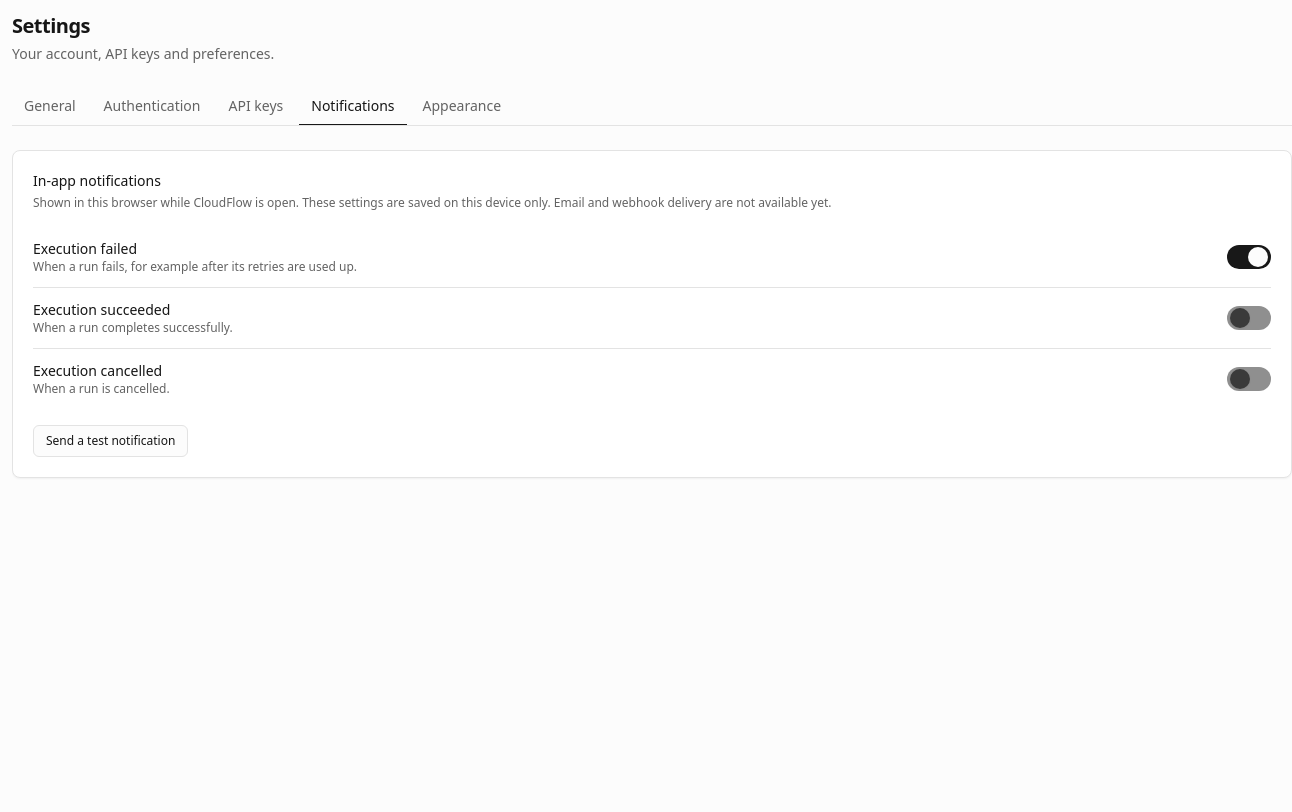
Test: notifications › starts with failures on, saves changes in this browser and can send a test
The width and height of the screenshot is (1292, 812).
Expected: the switch named "Execution failed" in the row of "Execution failed" is checked, [1227,245,1271,269]
Step 1. Click the switch named "Execution succeeded" in the row of "Execution succeeded" → (1249, 318), box [1227,306,1271,330]
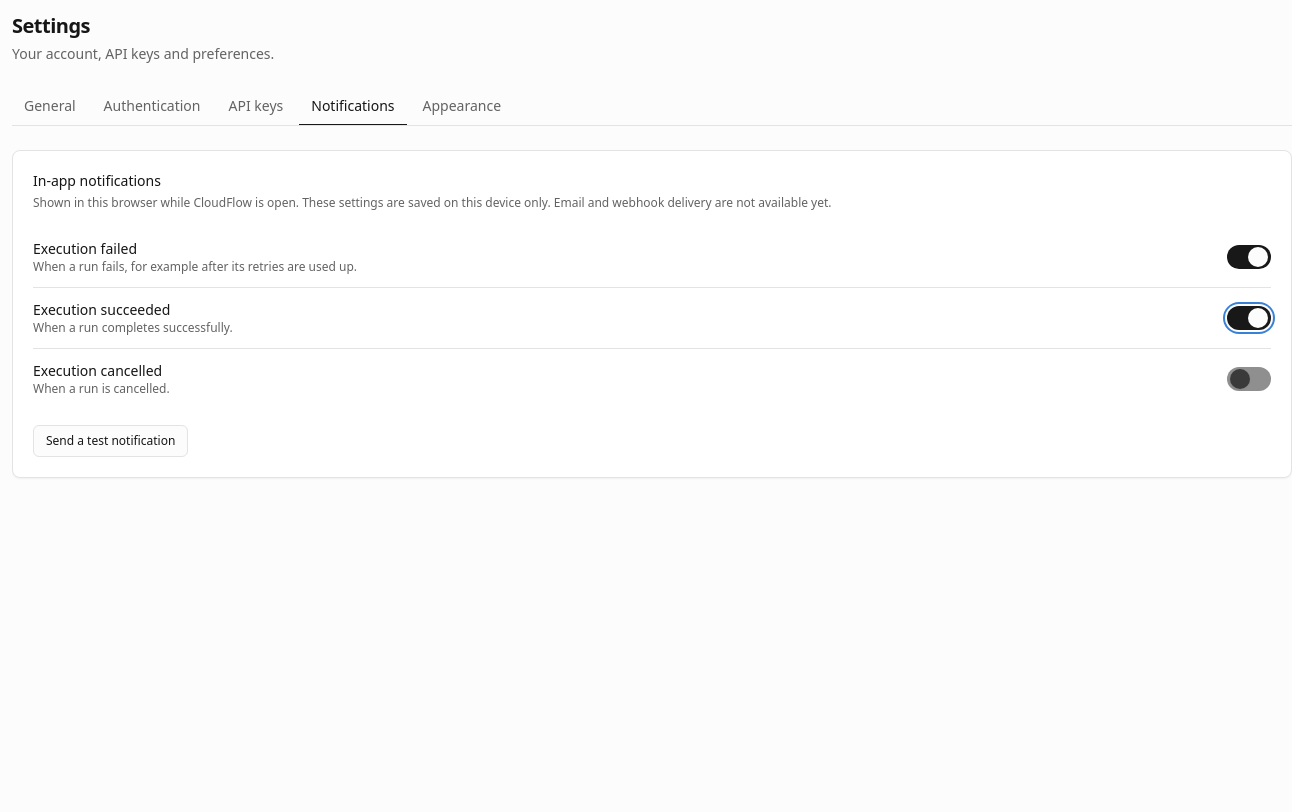
Expected: the switch named "Execution succeeded" in the row of "Execution succeeded" is checked, [1227,306,1271,330]
Step 2. Click the button "Send a test notification" → (111, 441), box [33,425,188,457]
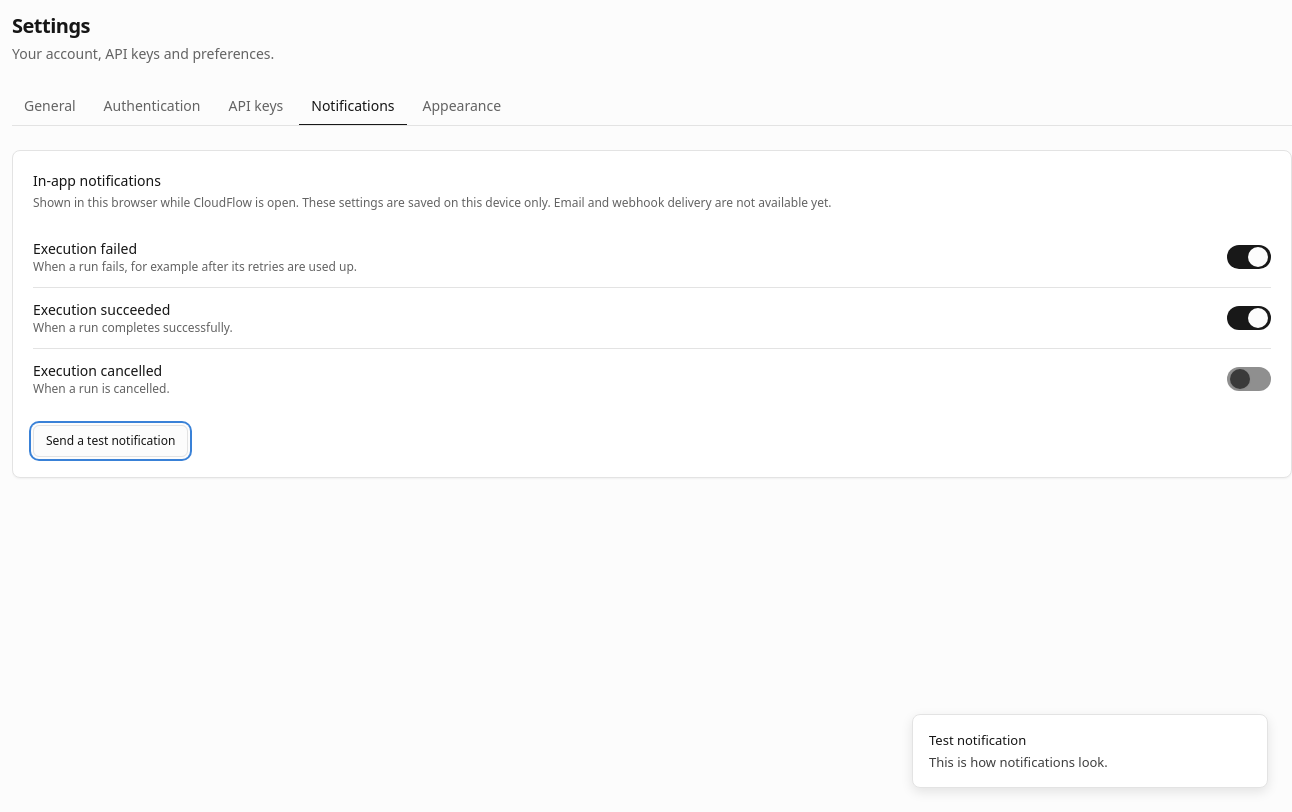
Expected: the text "Test notification" is shown, [929,731,1026,749]
